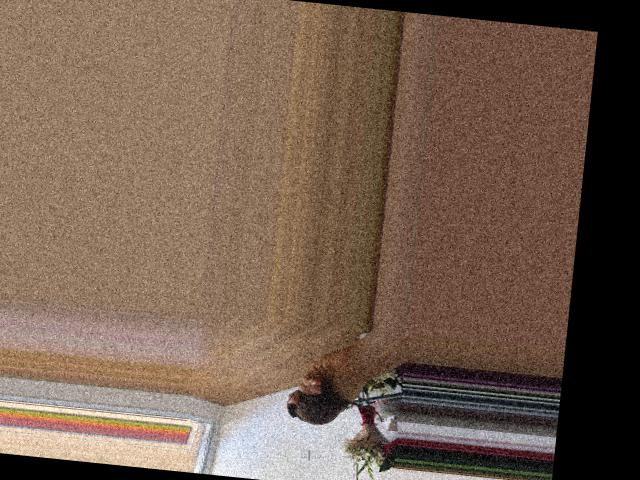beet: (285, 388, 383, 430)
